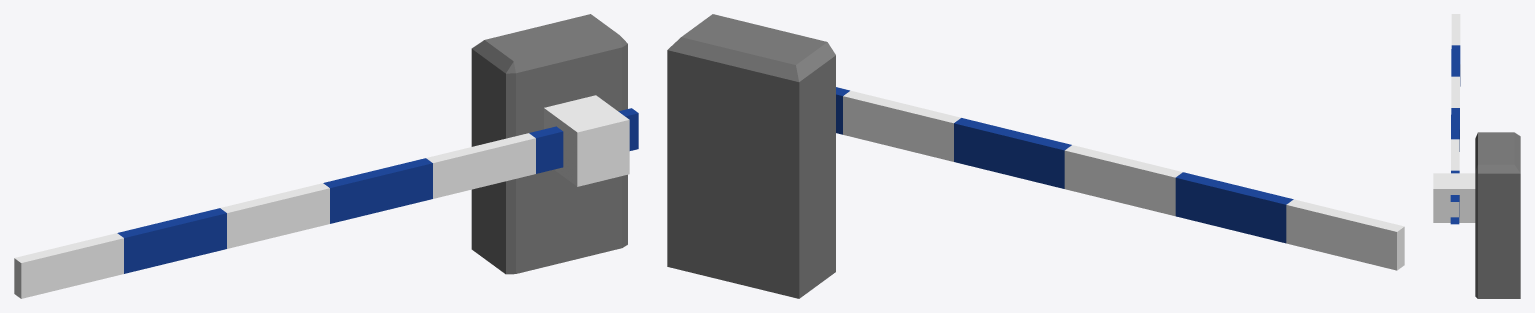
The model's file is SM_Barrier.fbx.
3 views of the same model, side by side, from view 1: azimuth 30°, elevation 25°; view 2: azimuth 150°, elevation 25°; view 3: azimuth 270°, elevation 25° (orthographic). The views are drawn at different scales.
Visible parts, largest first — view 1: SM_Barrier; view 2: SM_Barrier; view 3: SM_Barrier.
Boxes of the visible parts, <box> form: SM_Barrier: <box>14,14,638,298</box>; SM_Barrier: <box>667,14,1404,298</box>; SM_Barrier: <box>1433,14,1520,298</box>.
Bounding box in the file's own units: 332 × 107 × 64.17.
